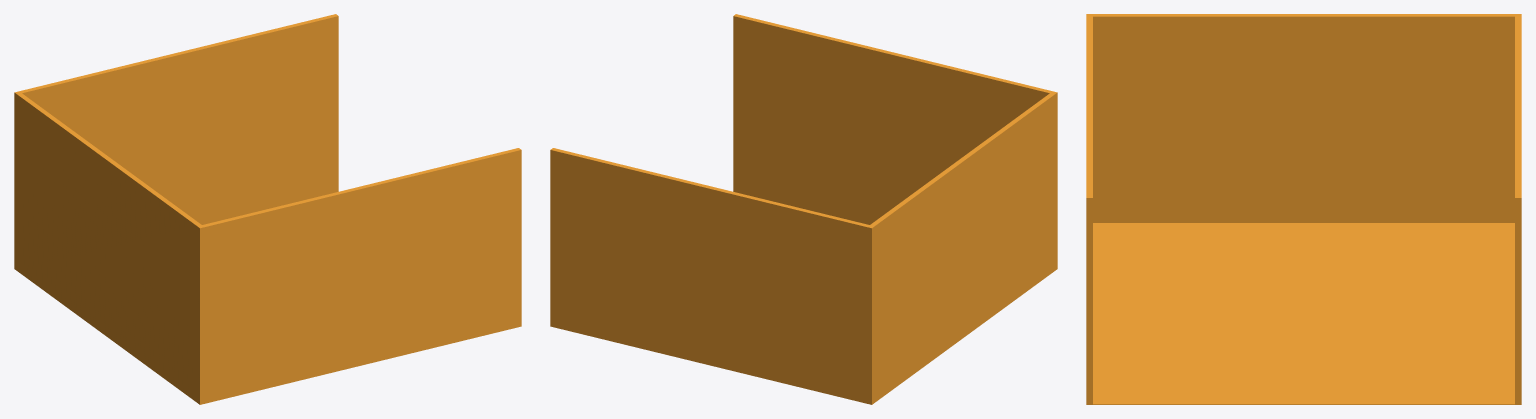
File: Room4.glb
3 renders of one model, left to right at view 1: azimuth 30°, elevation 25°; view 2: azimuth 150°, elevation 25°; view 3: azimuth 270°, elevation 25°, orthographic. The views are drawn at different scales.
Parts seen in each view (by area): view 1: Cube; view 2: Cube; view 3: Cube.
Boxes of the visible parts, x1,y1,x2,y2 form: Cube: (14, 14, 521, 404); Cube: (550, 14, 1057, 404); Cube: (1086, 14, 1521, 404).
Size of the model in its own units: 100 by 52.5 by 100.
